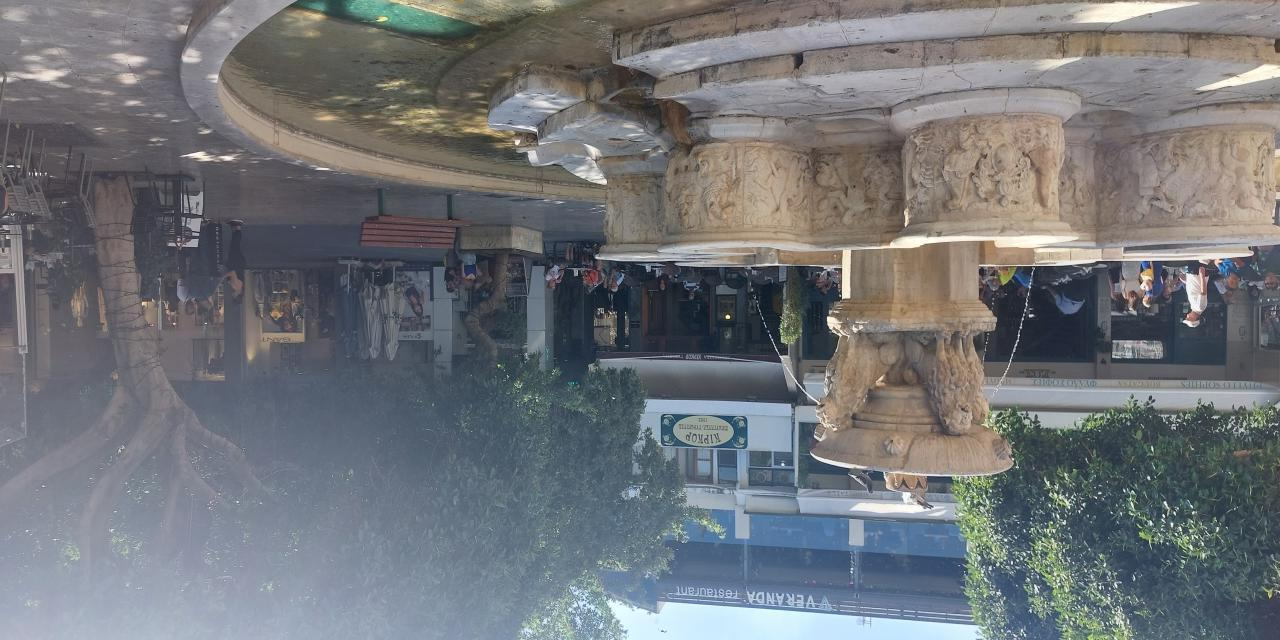Liontaria: (597, 96, 1280, 482)
